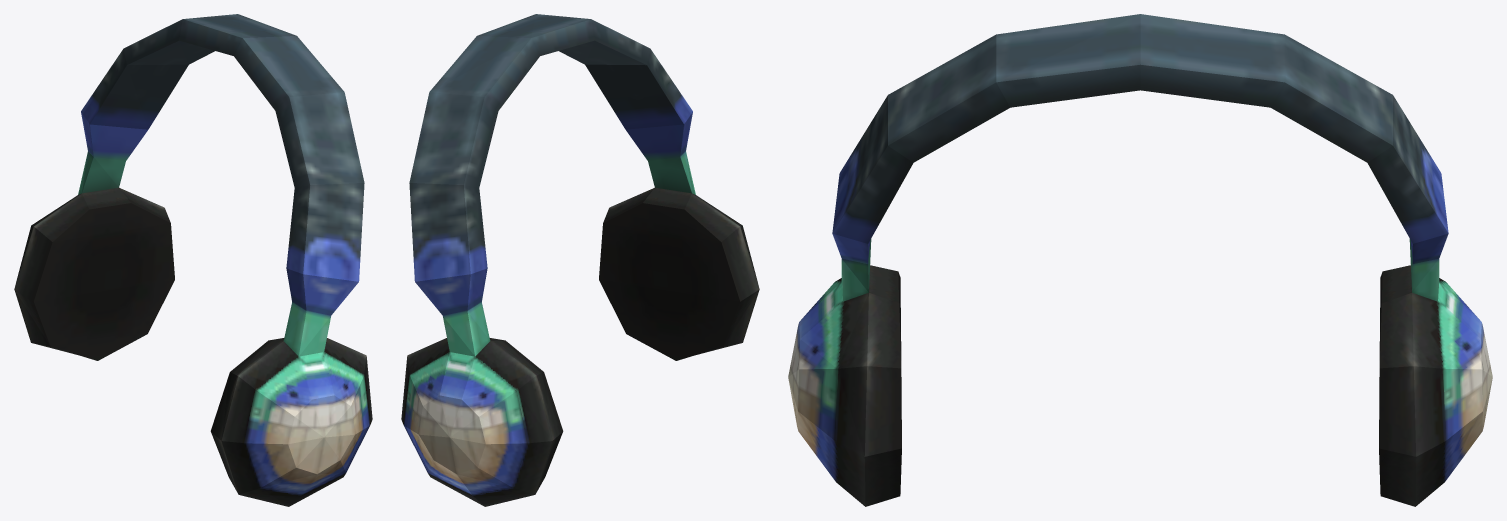
The model's file is Wolf_headphone.obj.
The picture shows the model from 3 angles, left to right: view 1: azimuth 30°, elevation 25°; view 2: azimuth 150°, elevation 25°; view 3: azimuth 270°, elevation 25°; orthographic projection. The views are drawn at different scales.
Visible parts, largest first — view 1: Wolf_headphone_tri; view 2: Wolf_headphone_tri; view 3: Wolf_headphone_tri.
Part boxes in pixels (<box>): Wolf_headphone_tri: <box>14,14,372,506</box>; Wolf_headphone_tri: <box>401,14,759,506</box>; Wolf_headphone_tri: <box>788,14,1492,506</box>.
Bounding box in the file's own units: 0.1231 × 0.2494 × 0.3099.
Materials: 1 (1 with a texture image).
